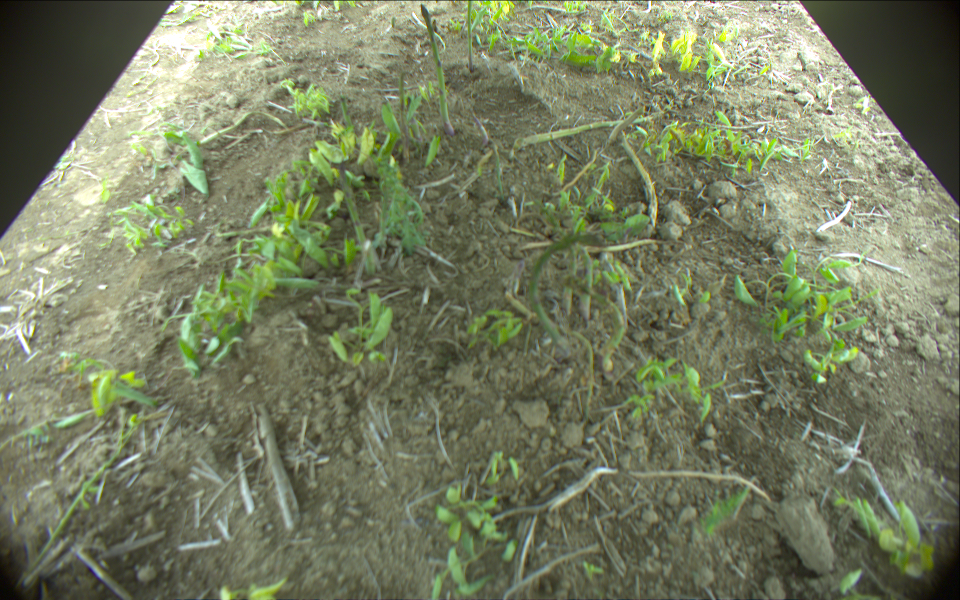aspa: (526, 230, 626, 351), (525, 109, 668, 149), (418, 1, 455, 136), (338, 164, 375, 269), (571, 277, 620, 351), (394, 72, 408, 167), (465, 1, 477, 71)
